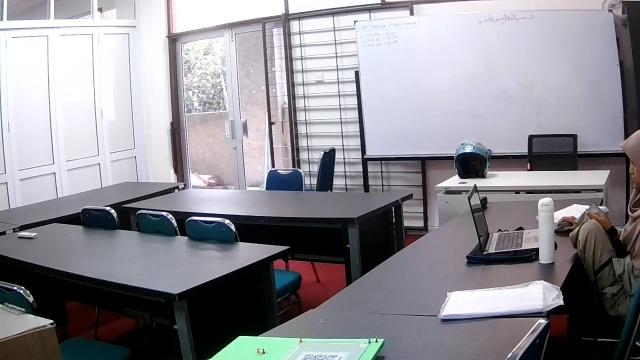AIO PC-Monitor-TV: (353, 7, 626, 156)
Meja: (310, 195, 604, 317), (0, 222, 290, 314), (120, 188, 413, 227), (435, 170, 610, 204)
